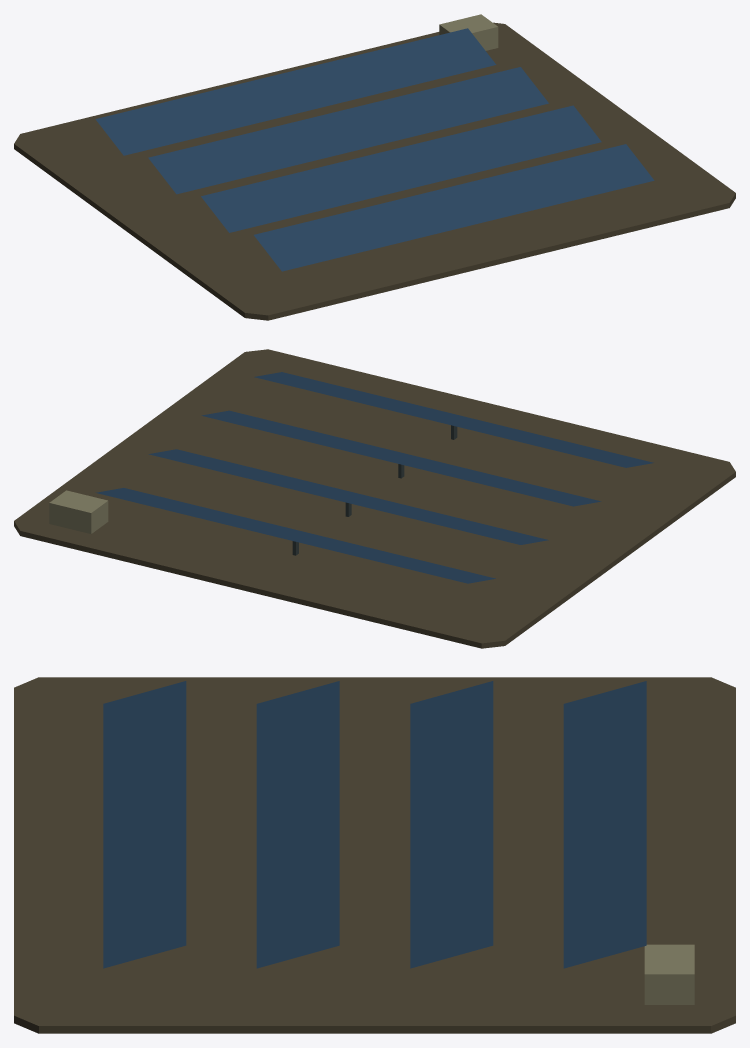
File: solar.glb
3 views of the same model, one above another, from view 1: azimuth 30°, elevation 25°; view 2: azimuth 150°, elevation 25°; view 3: azimuth 270°, elevation 25° (orthographic). The views are drawn at different scales.
Parts seen in each view (by area): view 1: solar; view 2: solar; view 3: solar.
Part boxes in pixels (left/top/right/bottom): solar: left=14, top=14, right=735, bottom=320; solar: left=14, top=349, right=735, bottom=648; solar: left=14, top=677, right=735, bottom=1033.
Bounding box in the file's own units: 199 × 12.26 × 174.
